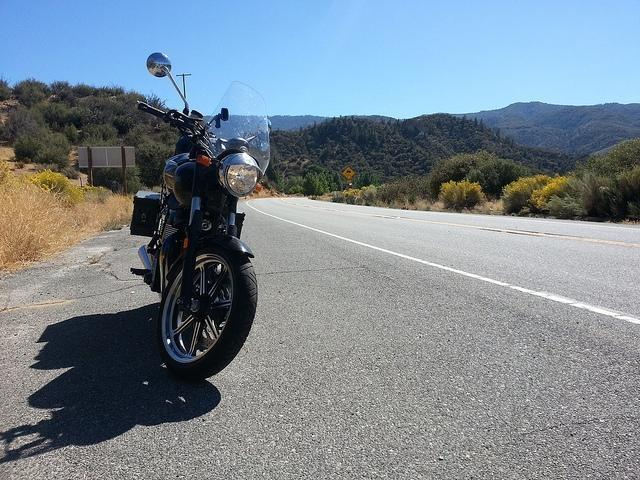motorcycle: (126, 53, 268, 383)
